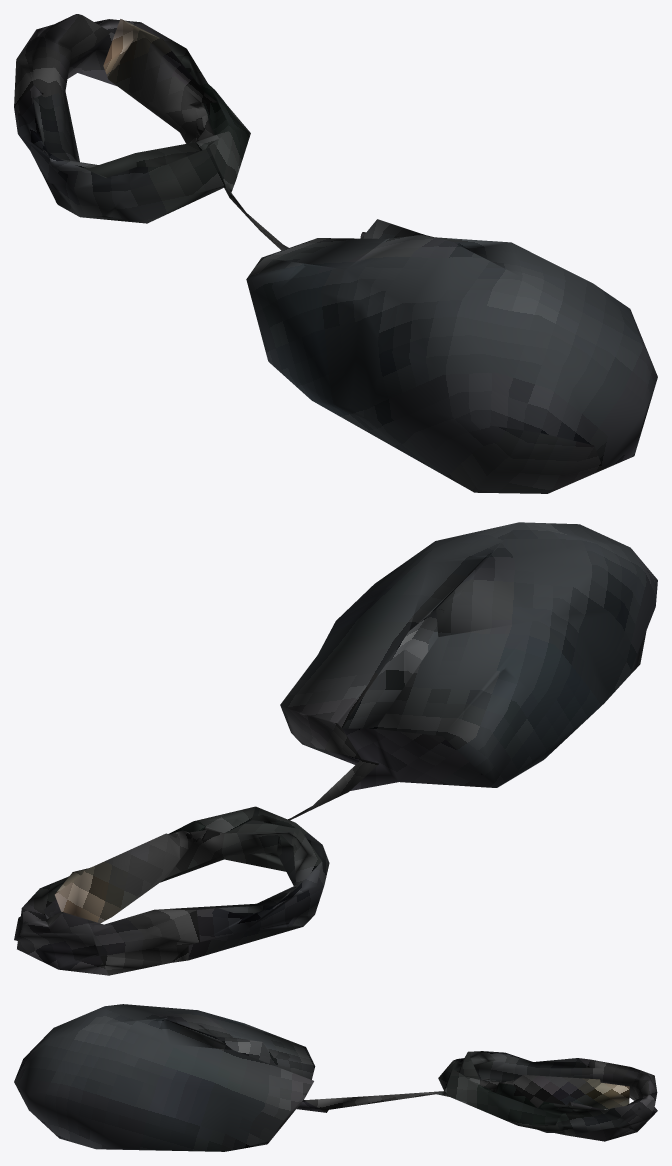
The model's file is Razer_Naga_MMO_Gaming_Mouse-low.glb.
3 renders of one model, top to bottom at view 1: azimuth 30°, elevation 25°; view 2: azimuth 150°, elevation 25°; view 3: azimuth 270°, elevation 25°, orthographic. The views are drawn at different scales.
Visible parts, largest first — view 1: Razer_Naga_MMO_Gaming_Mouse; view 2: Razer_Naga_MMO_Gaming_Mouse; view 3: Razer_Naga_MMO_Gaming_Mouse.
Part boxes in pixels (x1=…): Razer_Naga_MMO_Gaming_Mouse: x1=14, y1=14, x2=657, y2=493; Razer_Naga_MMO_Gaming_Mouse: x1=14, y1=522, x2=657, y2=975; Razer_Naga_MMO_Gaming_Mouse: x1=14, y1=1004, x2=657, y2=1151.
Size of the model in its own units: 0.074 by 0.0419 by 0.2537.
1 material, 1 textured.
